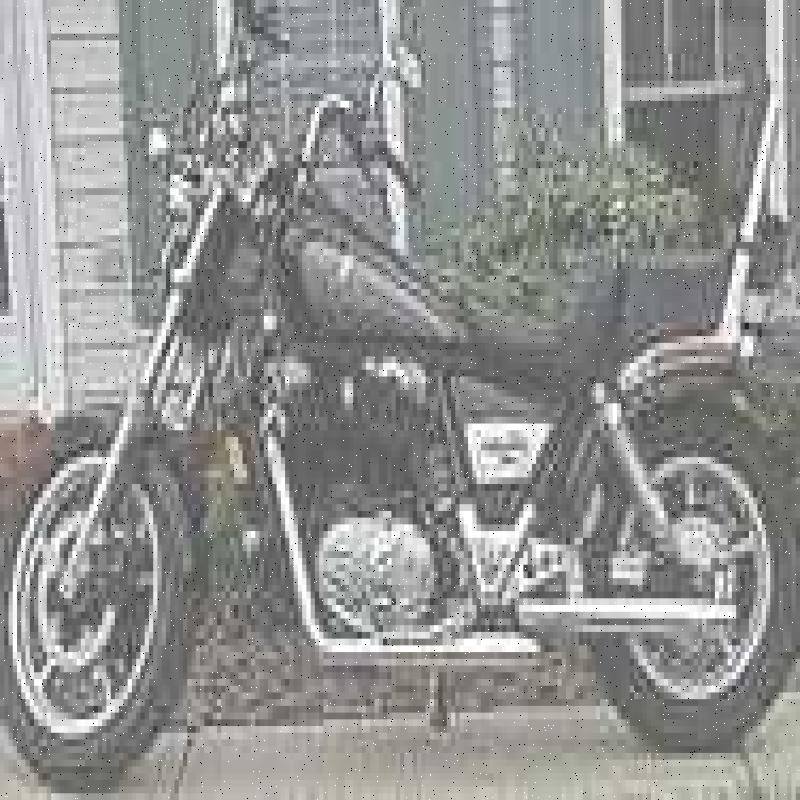bike: (31, 36, 800, 778)
